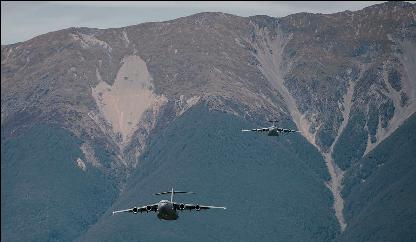C2: (110, 187, 226, 219), (241, 119, 303, 136)
